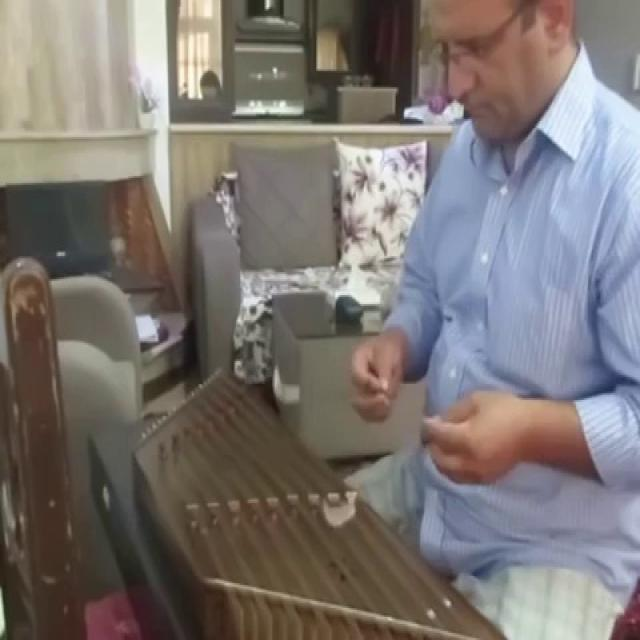Santur: (101, 333, 525, 640)
